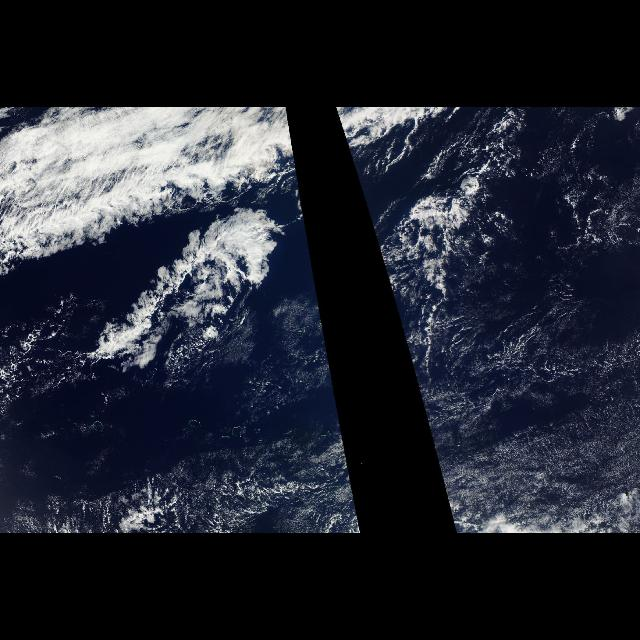Fish: (2, 117, 300, 426)
Sugar: (411, 258, 639, 534), (110, 470, 354, 530)
